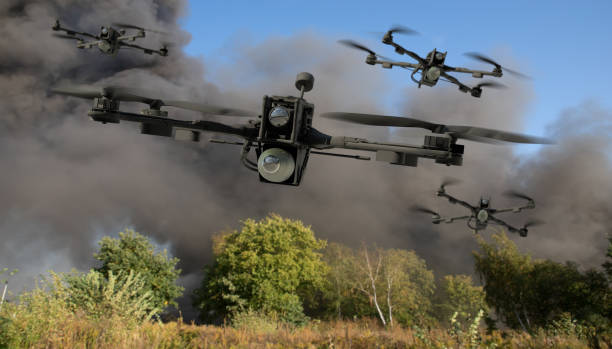Drone: (44, 72, 563, 187), (335, 18, 536, 102), (410, 176, 549, 238), (46, 14, 176, 62)
